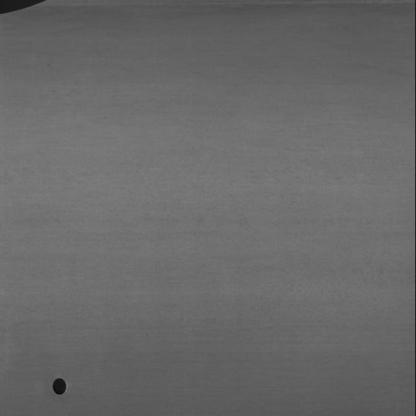crescent_gap: (0, 0, 52, 17)
punching_hole: (47, 378, 73, 396)
